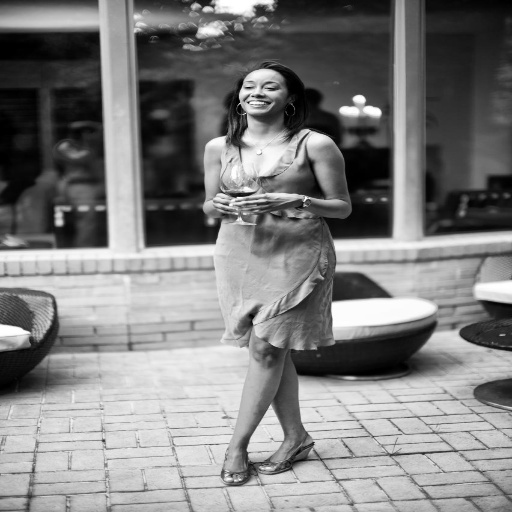hand: (225, 190, 302, 212), (209, 190, 244, 216)
